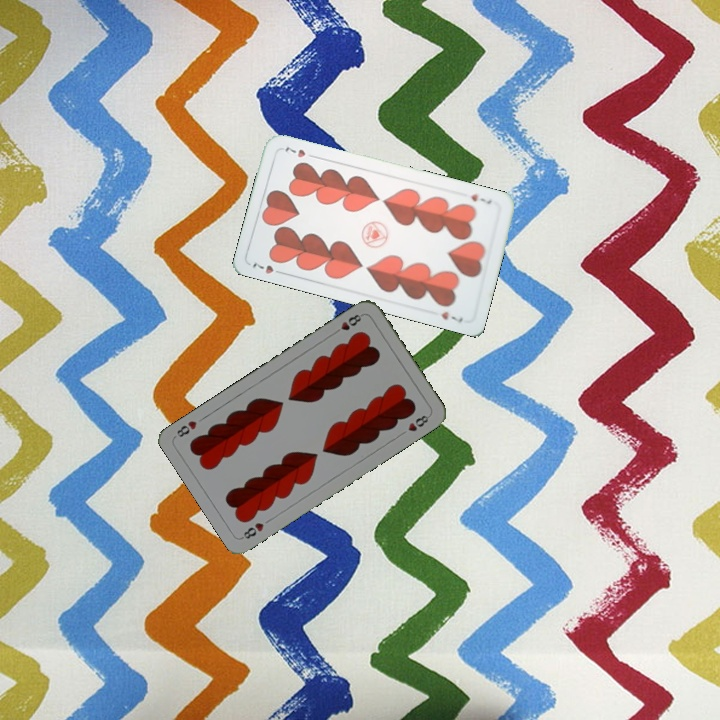H7: (248, 259, 287, 277), (467, 190, 494, 207)
H8: (329, 310, 366, 337), (238, 518, 267, 541)
